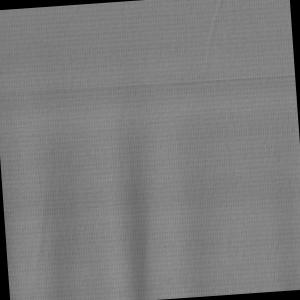Wrinkle: (1, 111, 222, 300), (263, 156, 300, 292), (194, 1, 236, 74)
